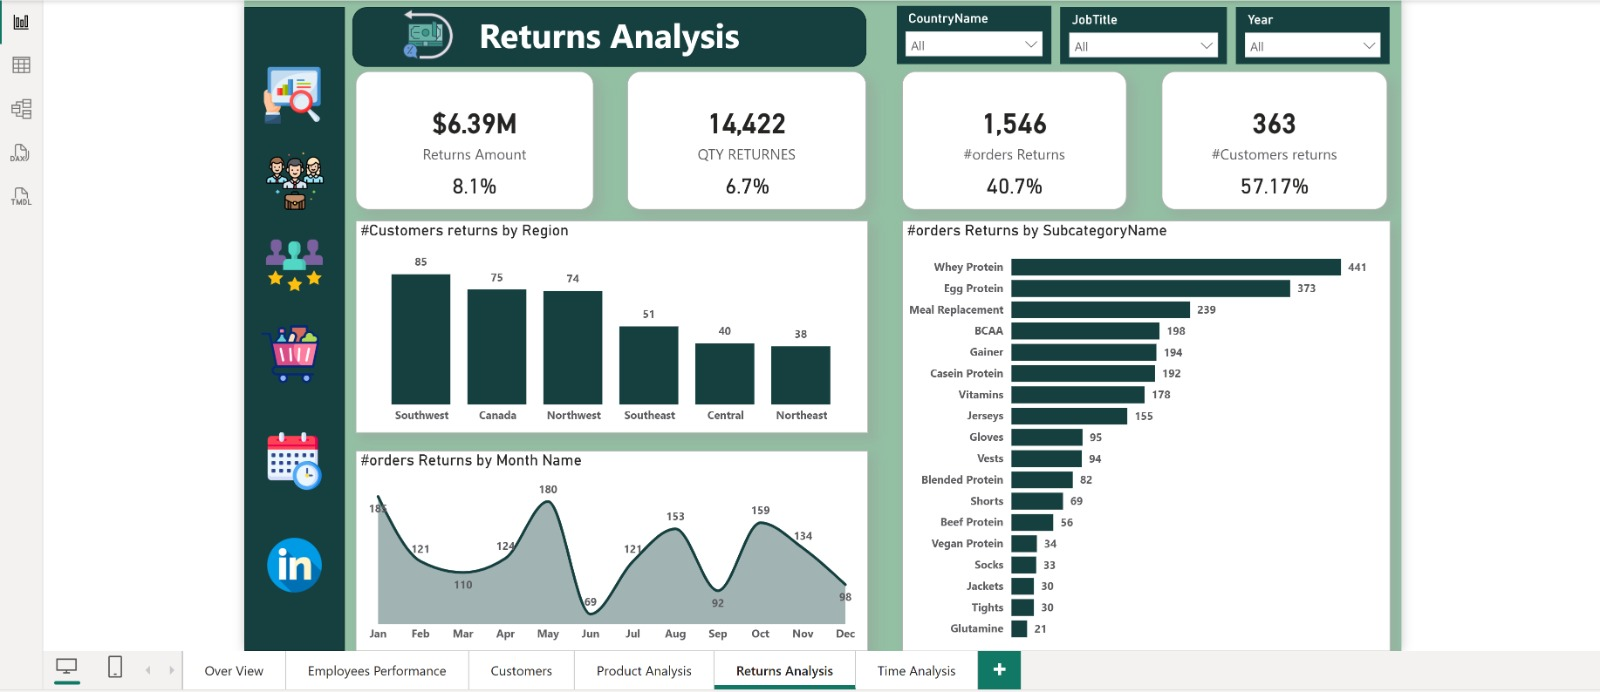

The dashboard page shown, as its layout file describes it:
{"tool":"powerbi","page":{"name":" Returns Analysis","canvas":[1280,720],"ordinal":4},"visuals":[{"type":"shape","box":[0,7.2,111.1,712.7],"z":0},{"type":"image","box":[2.4,73.6,101.3,62.7],"z":1000},{"type":"image","box":[4.8,261.8,101.3,62.7],"z":2000},{"type":"slicer","fields":{"Values":["Date TAble.Year"]},"box":[1096.7,6.7,170,63.3],"z":3000},{"type":"slicer","fields":{"Values":["Employees.JobTitle"]},"box":[902.7,6.7,184.4,63.3],"z":4000},{"type":"shape","box":[119.7,7.2,568.4,66.4],"z":5000},{"type":"slicer","fields":{"Values":["Customers.CountryName"]},"box":[721.9,6.3,171.2,64.5],"z":6000},{"type":"card","fields":{"Values":["Return Measures.Returns Amount"]},"box":[122.6,78.2,263.2,153.3],"z":8000},{"type":"card","fields":{"Values":["Return Measures.#Customers returns"]},"box":[1014.7,78.2,249.4,153.3],"z":9000},{"type":"card","fields":{"Values":["Return Measures.#orders Returns"]},"box":[727.2,78.2,248.4,153.3],"z":10000},{"type":"card","fields":{"Values":["Return Measures.QTY RETURNES"]},"box":[423.8,78.2,264.2,153.3],"z":11000},{"type":"card","fields":{"Values":["Return Measures.%returns Amount"]},"box":[180.7,177.6,146.9,53.9],"z":12000},{"type":"card","fields":{"Values":["Return Measures.%returns QTY"]},"box":[482,177.6,146.9,53.9],"z":13000},{"type":"card","fields":{"Values":["Return Measures.%returns ORDERS"]},"box":[777.9,177.6,146.9,53.9],"z":14000},{"type":"card","fields":{"Values":["Return Measures.%returns Customers"]},"box":[1065.4,177.6,146.9,53.9],"z":15000},{"type":"areaChart","fields":{"Category":["Date TAble.Month Name"],"Y":["Return Measures.#orders Returns"]},"box":[122.6,497.8,566.5,222],"z":16000},{"type":"clusteredColumnChart","fields":{"Category":["Customers.Region"],"Y":["Return Measures.#Customers returns"]},"box":[122.6,243.1,566.5,234.6],"z":17000},{"type":"clusteredBarChart","fields":{"Category":["Product.SubcategoryName"],"Y":["Return Measures.#orders Returns"]},"box":[727.2,243.1,540.1,476.7],"z":18000},{"type":"textbox","box":[230.8,7.2,346.3,88],"z":19000},{"type":"image","box":[139.9,7.8,127,60.6],"z":20000},{"type":"image","box":[4.8,477.8,101.3,63.9],"z":21000},{"type":"image","box":[0,359.5,101.3,63.9],"z":22000},{"type":"image","box":[4.8,167.7,102.5,63.9],"z":23000},{"type":"image","box":[14.5,594.8,82,60.3],"z":24001}]}

Visuals, with their boxes on the page's 1280x720 design canvas (x1, y1, x2, y2). These are canvas units, not pixel positions in the 1600x692 screenshot, which may show the page scaled, cropped or inside an application window:
shape: [x1=0, y1=7, x2=111, y2=720]
image: [x1=2, y1=74, x2=104, y2=136]
image: [x1=5, y1=262, x2=106, y2=324]
slicer - Date TAble.Year: [x1=1097, y1=7, x2=1267, y2=70]
slicer - Employees.JobTitle: [x1=903, y1=7, x2=1087, y2=70]
shape: [x1=120, y1=7, x2=688, y2=74]
slicer - Customers.CountryName: [x1=722, y1=6, x2=893, y2=71]
card - Return Measures.Returns Amount: [x1=123, y1=78, x2=386, y2=232]
card - Return Measures.#Customers returns: [x1=1015, y1=78, x2=1264, y2=232]
card - Return Measures.#orders Returns: [x1=727, y1=78, x2=976, y2=232]
card - Return Measures.QTY RETURNES: [x1=424, y1=78, x2=688, y2=232]
card - Return Measures.%returns Amount: [x1=181, y1=178, x2=328, y2=232]
card - Return Measures.%returns QTY: [x1=482, y1=178, x2=629, y2=232]
card - Return Measures.%returns ORDERS: [x1=778, y1=178, x2=925, y2=232]
card - Return Measures.%returns Customers: [x1=1065, y1=178, x2=1212, y2=232]
areaChart - Date TAble.Month Name x Return Measures.#orders Returns: [x1=123, y1=498, x2=689, y2=720]
clusteredColumnChart - Customers.Region x Return Measures.#Customers returns: [x1=123, y1=243, x2=689, y2=478]
clusteredBarChart - Product.SubcategoryName x Return Measures.#orders Returns: [x1=727, y1=243, x2=1267, y2=720]
textbox: [x1=231, y1=7, x2=577, y2=95]
image: [x1=140, y1=8, x2=267, y2=68]
image: [x1=5, y1=478, x2=106, y2=542]
image: [x1=0, y1=360, x2=101, y2=423]
image: [x1=5, y1=168, x2=107, y2=232]
image: [x1=14, y1=595, x2=96, y2=655]
